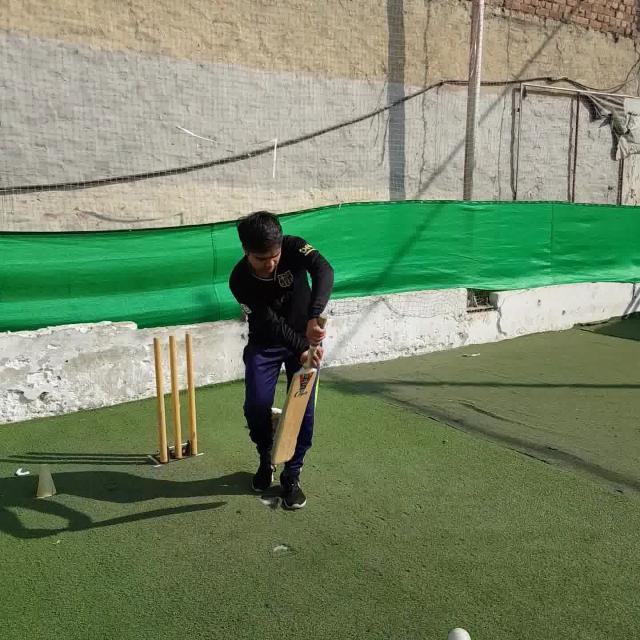ball: (448, 624, 473, 640)
bat: (271, 315, 331, 465)
